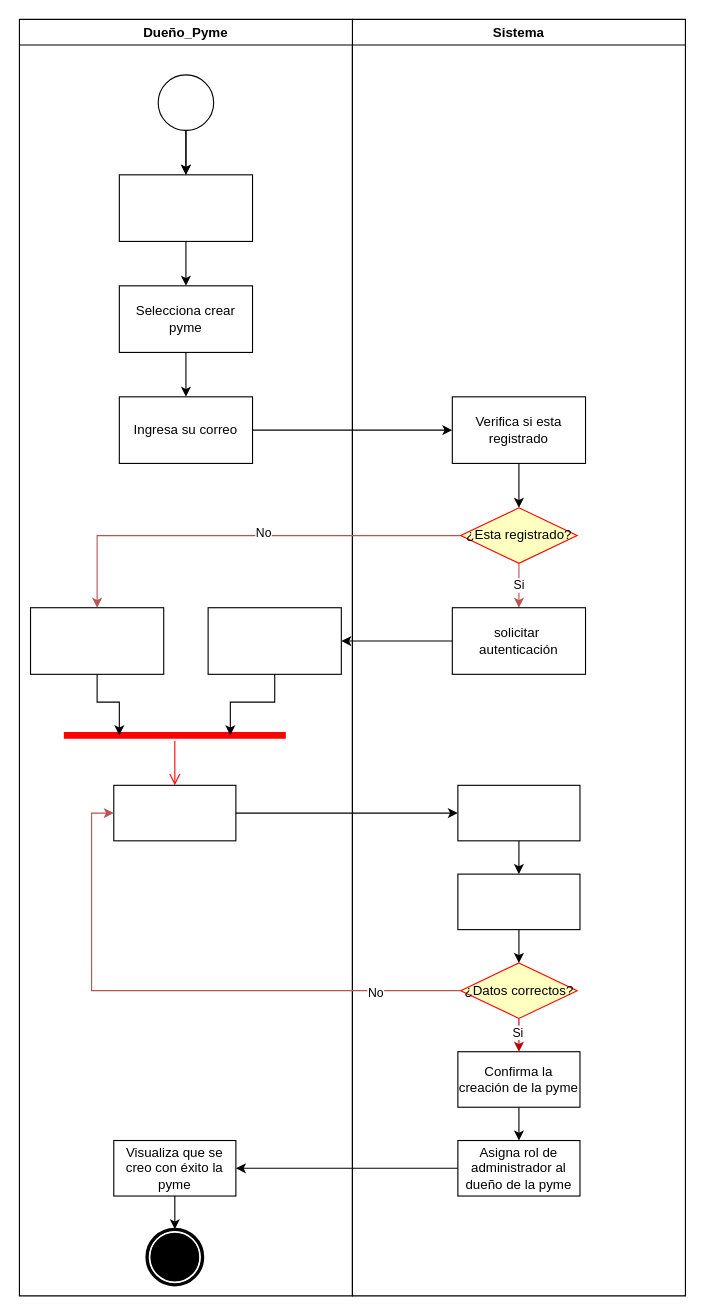
Image size: 705x1315. Some labels were removed from this diagram. The centre of each missing label's shape, as x and y in pixels:
"Ingresa a la pagina web" belongs at (x=185, y=207).
"Ingresa contraseña" belongs at (x=274, y=640).
"Ingresa una contraseña" belongs at (x=96, y=640).
"Llena el formulario con los datos del negocio" belongs at (x=174, y=812).
"Valida datos del formulario" belongs at (x=518, y=901).
"Verificar que todos los campos estén completos" belongs at (x=518, y=812).
